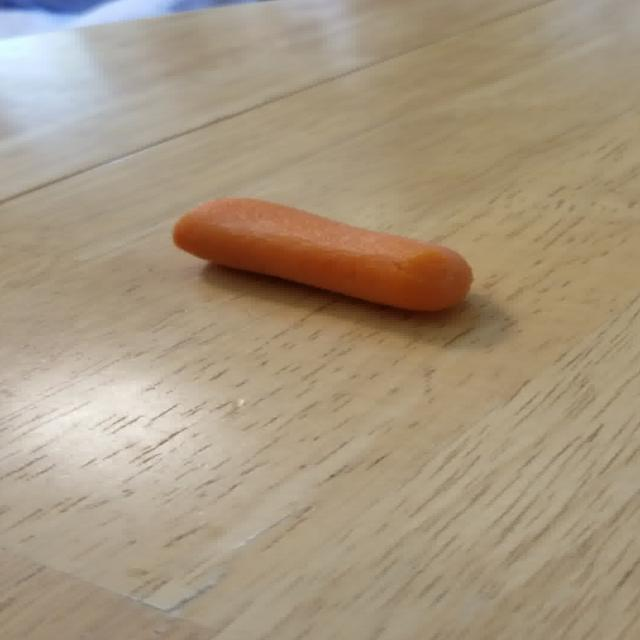carrot: (173, 199, 474, 310)
